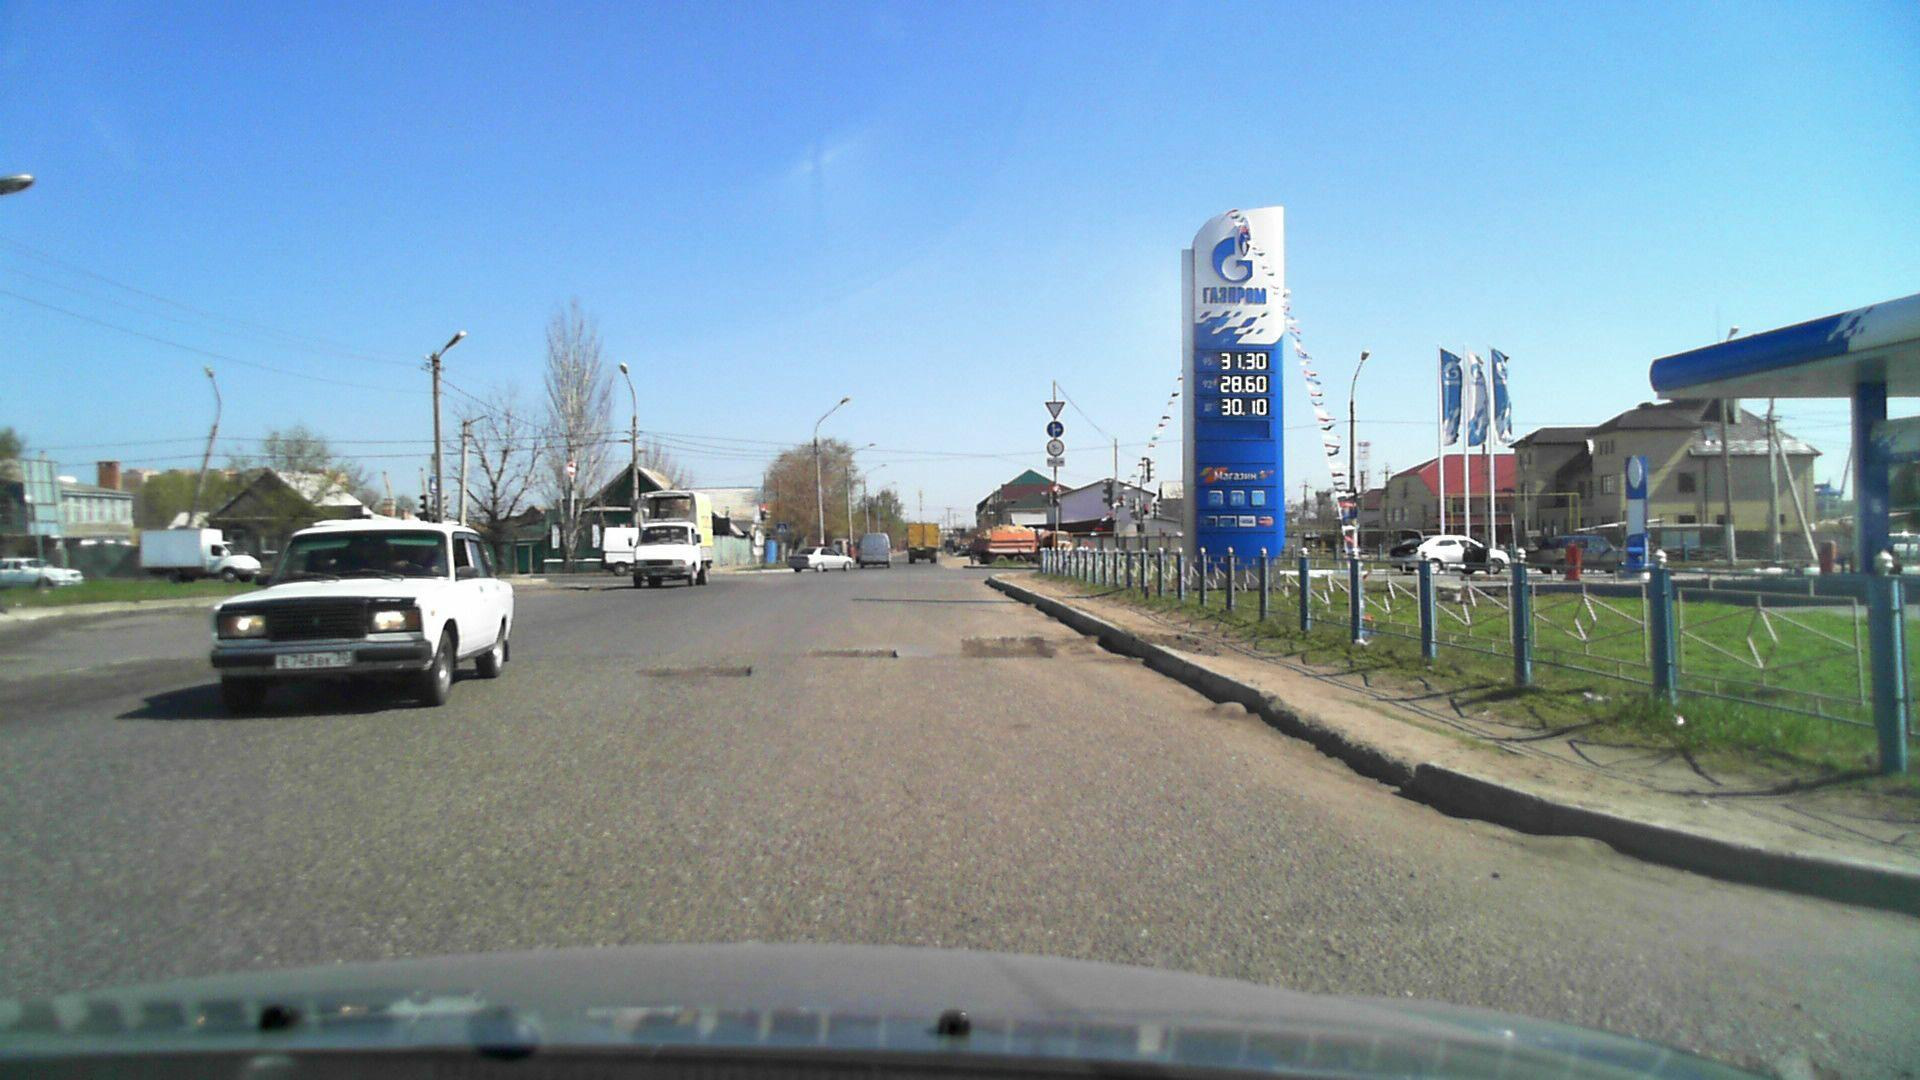2_4: (1044, 400, 1065, 418)
3_11: (1044, 438, 1064, 458)
4_1_4: (1046, 421, 1064, 438)
8_1_4: (1047, 458, 1067, 468)
